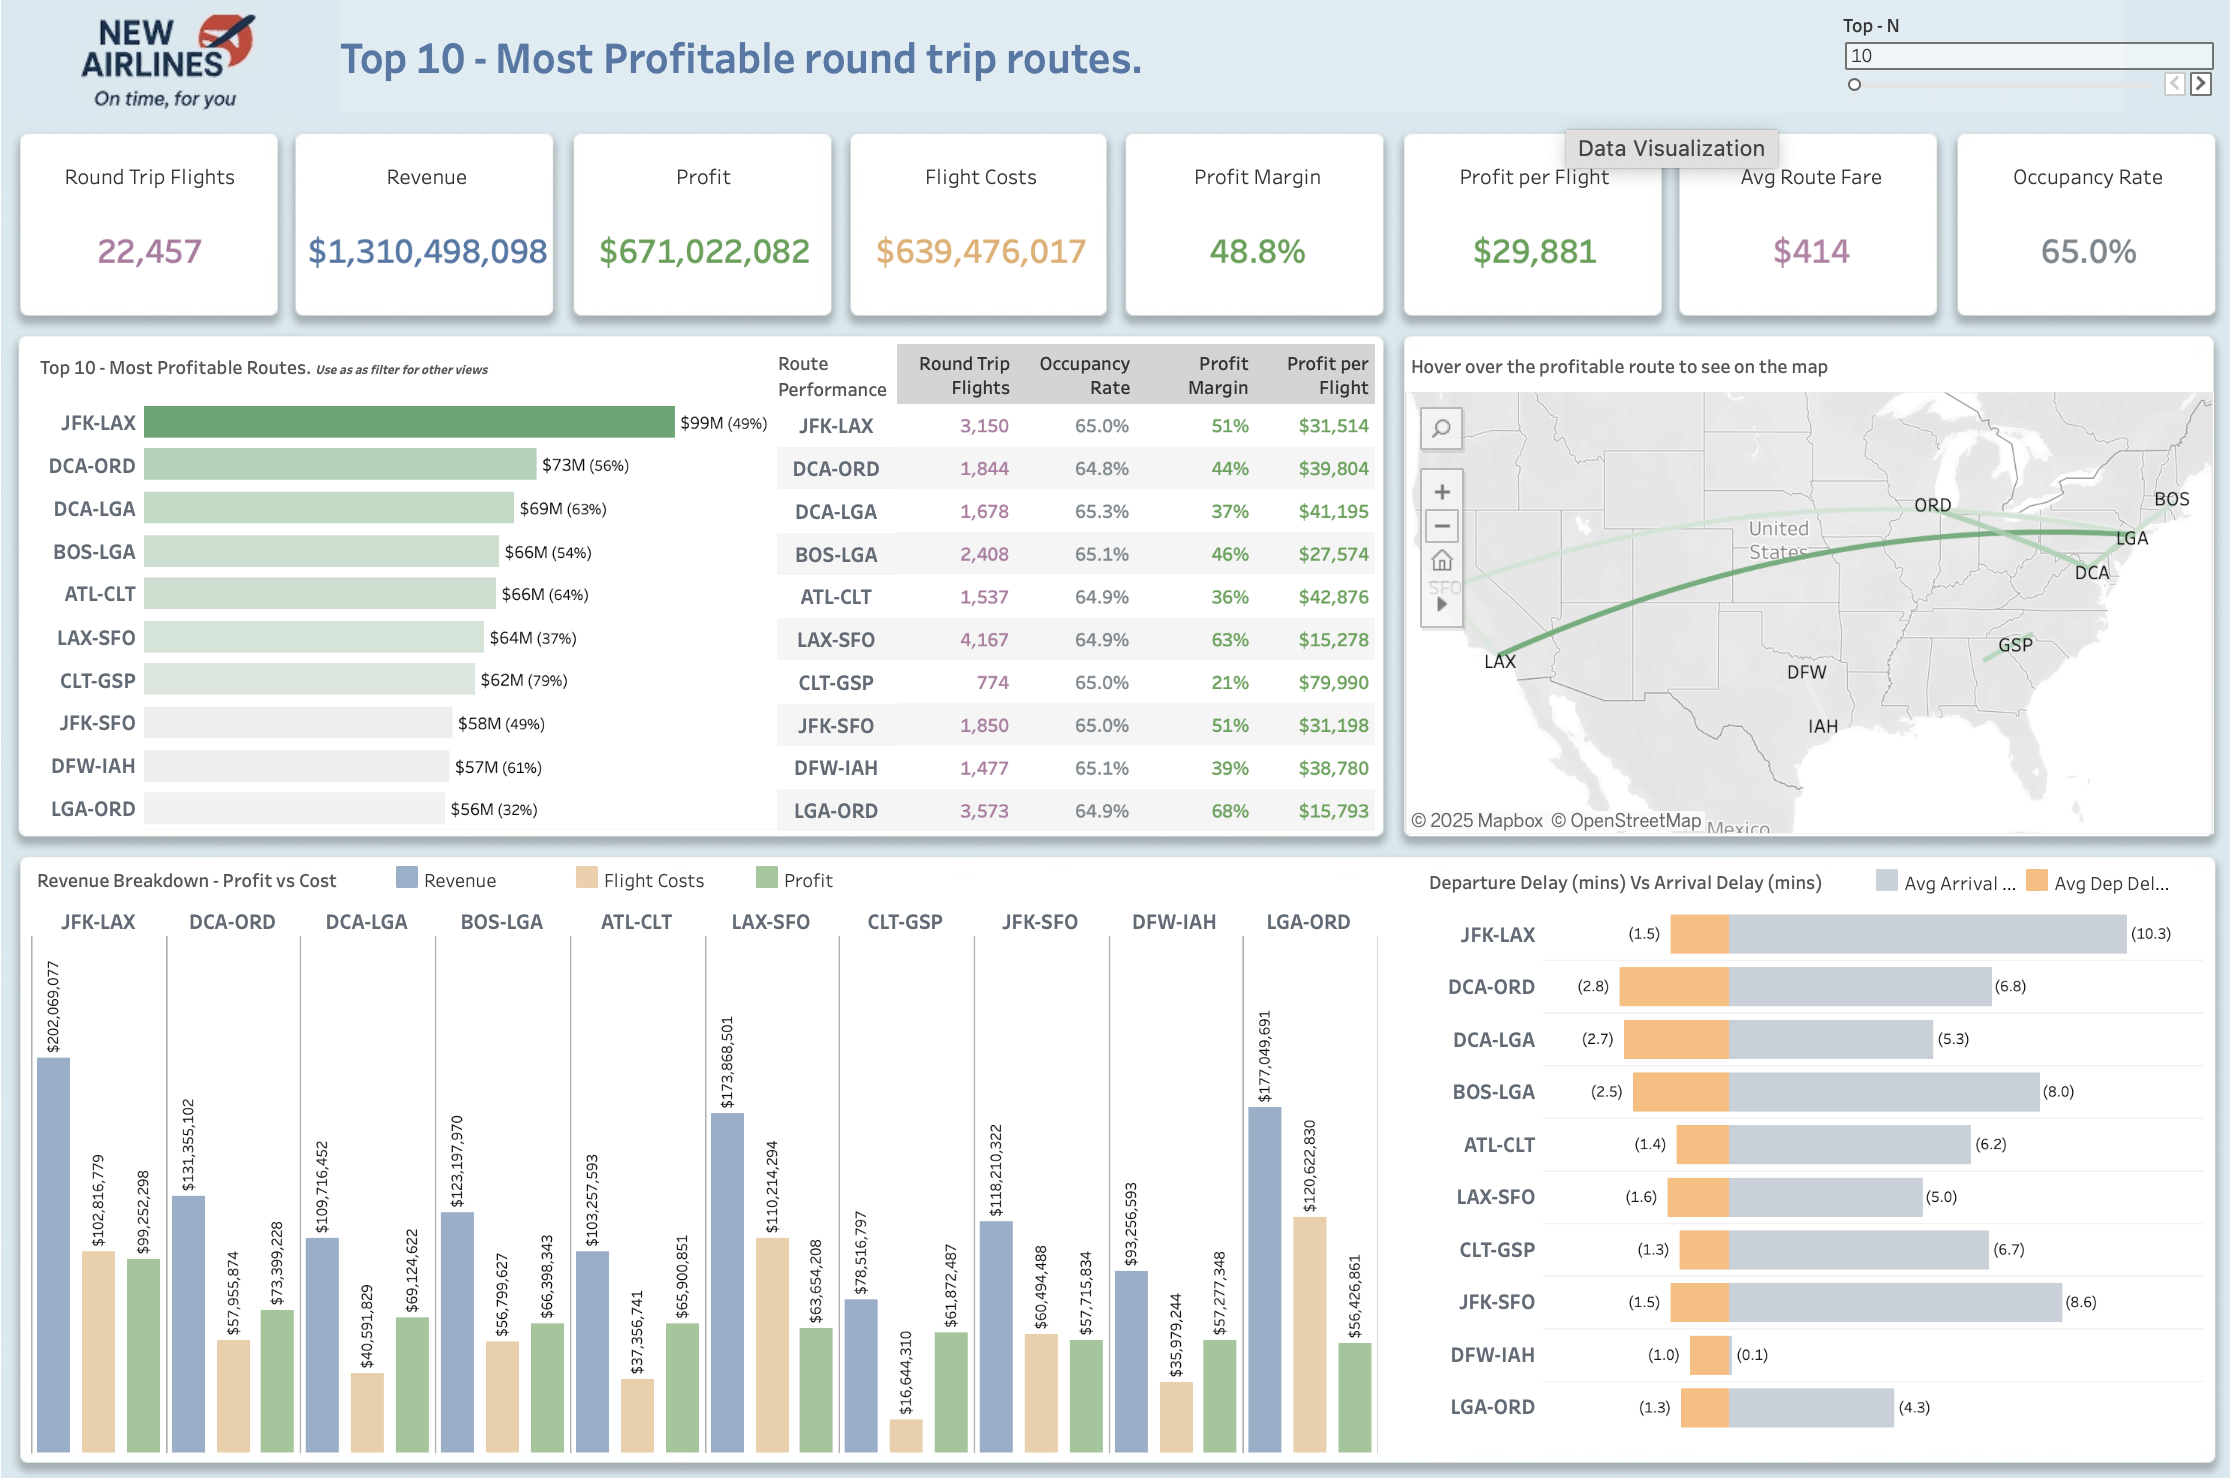

This screenshot's page, from the dashboard's own definition file:
{"tool":"tableau","page":{"name":"Top 10 - Profitable Routes","canvas":[1500,1000],"ordinal":4},"visuals":[{"type":"image","param":"Image/Frame 1-2.jpg","box":[0,0,1500,1000]},{"type":"text","box":[230,5,1190,76]},{"type":"parameter","param":"[Parameters].[Parameter 1]","box":[1232,14,248,71]},{"type":"worksheet","title":"Q2 - Header","mark":"Automatic","box":[11,105,1477,114]},{"type":"worksheet","title":"Q2 - Map ","mark":"Multipolygon","box":[940,234,539,328]},{"type":"text","box":[30,235,467,30]},{"type":"worksheet","title":"Q2 - Route Performance","mark":"Automatic","rows":["CANONICAL_ROUTE_PAIR"],"box":[521,235,399,325]},{"type":"text","box":[522,235,105,42]},{"type":"worksheet","title":"Q2 - Bar Graph","mark":"Automatic","rows":["CANONICAL_ROUTE_PAIR"],"cols":["PROFIT_PER_LEG"],"box":[19,273,518,286]},{"type":"worksheet","title":"Q2 - Revenue Bar","mark":"Automatic","cols":["CANONICAL_ROUTE_PAIR"],"box":[24,577,898,398]},{"type":"worksheet","title":"Q2 - Delay Bar","mark":"Bar","rows":["CANONICAL_ROUTE_PAIR"],"cols":["DEP_DELAY","Calculation_3292835024579313665"],"box":[952,578,521,397]},{"type":"legend","title":"Q2 - Revenue Bar","param":"[federated.12wwmq61kxhtao15q7wsd1uqg116].[:Measure Names]","box":[264,580,372,26]},{"type":"legend","title":"Q2 - Delay Bar","param":"[federated.12wwmq61kxhtao15q7wsd1uqg116].[:Measure Names]","box":[1251,582,244,22]}]}

Visuals, with their boxes in screenshot pixels (x1, y1, x2, y2), scaled from the page's 1500x1000 canvas onto the 2230x1478 screenshot:
image: detection(0, 0, 2229, 1477)
text: detection(342, 7, 2111, 120)
parameter: detection(1832, 21, 2200, 126)
"Q2 - Header" worksheet: detection(16, 155, 2212, 324)
"Q2 - Map " worksheet (Multipolygon marks): detection(1397, 346, 2199, 831)
text: detection(45, 347, 739, 392)
"Q2 - Route Performance" worksheet: detection(775, 347, 1368, 828)
text: detection(776, 347, 932, 409)
"Q2 - Bar Graph" worksheet: detection(28, 403, 798, 826)
"Q2 - Revenue Bar" worksheet: detection(36, 853, 1371, 1441)
"Q2 - Delay Bar" worksheet (Bar marks): detection(1415, 854, 2190, 1441)
"Q2 - Revenue Bar" legend: detection(392, 857, 946, 896)
"Q2 - Delay Bar" legend: detection(1860, 860, 2223, 893)
